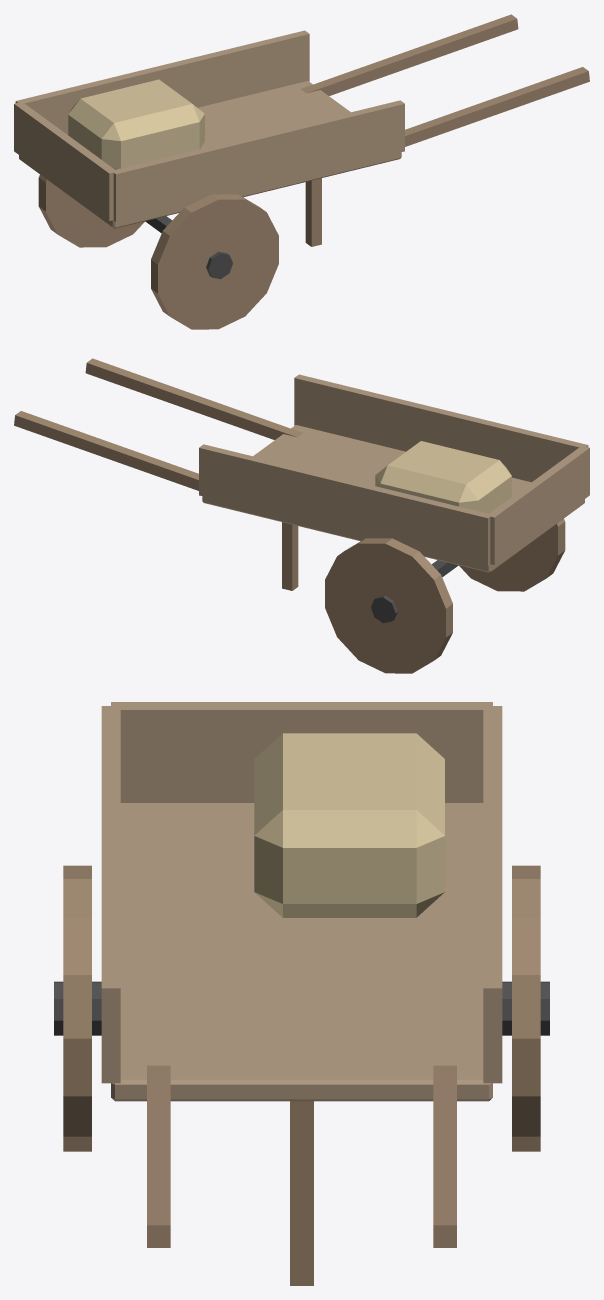
The model's file is el_arabasi.glb.
The picture shows the model from 3 angles, top to bottom: view 1: azimuth 30°, elevation 25°; view 2: azimuth 150°, elevation 25°; view 3: azimuth 270°, elevation 25°; orthographic projection. The views are drawn at different scales.
Visible parts, largest first — view 1: el_arabasi; view 2: el_arabasi; view 3: el_arabasi.
Part boxes in pixels (<box>): el_arabasi: <box>14,14,589,329</box>; el_arabasi: <box>14,358,589,673</box>; el_arabasi: <box>54,702,549,1285</box>.
Bounding box in the file's own units: 2.37 × 0.825 × 1.04.
